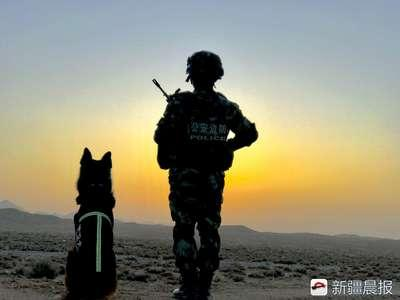up: (150, 49, 260, 292)
